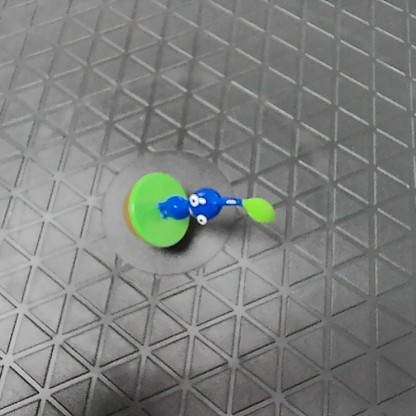leafairy: (121, 166, 274, 251)
